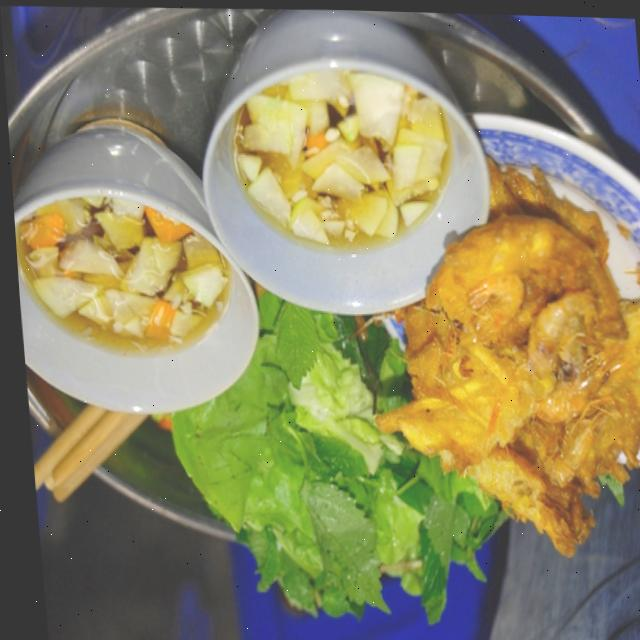炸货点心: (362, 137, 640, 591)
熟制海鲜: (362, 137, 640, 591)
